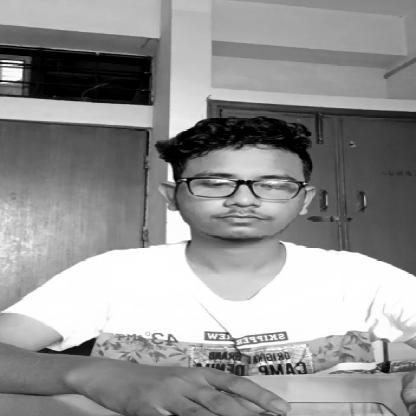Normal: (177, 141, 309, 245)
